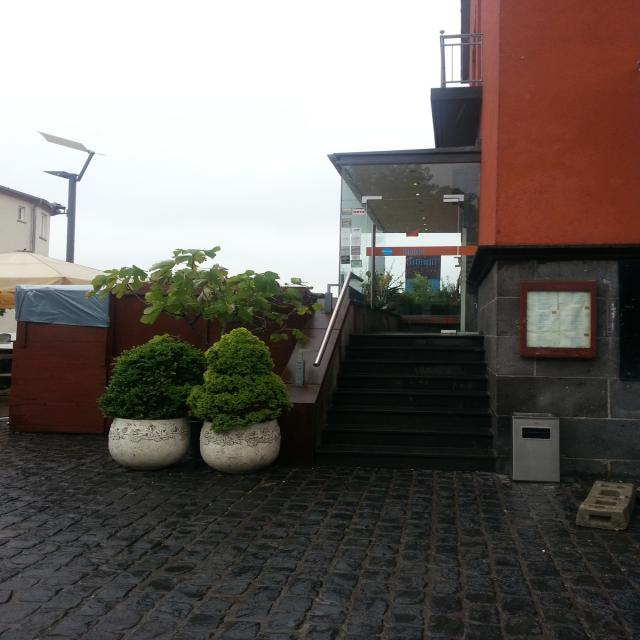AVOID: (315, 340, 498, 468)
